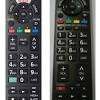remote control: (52, 0, 93, 100), (4, 0, 40, 100)
